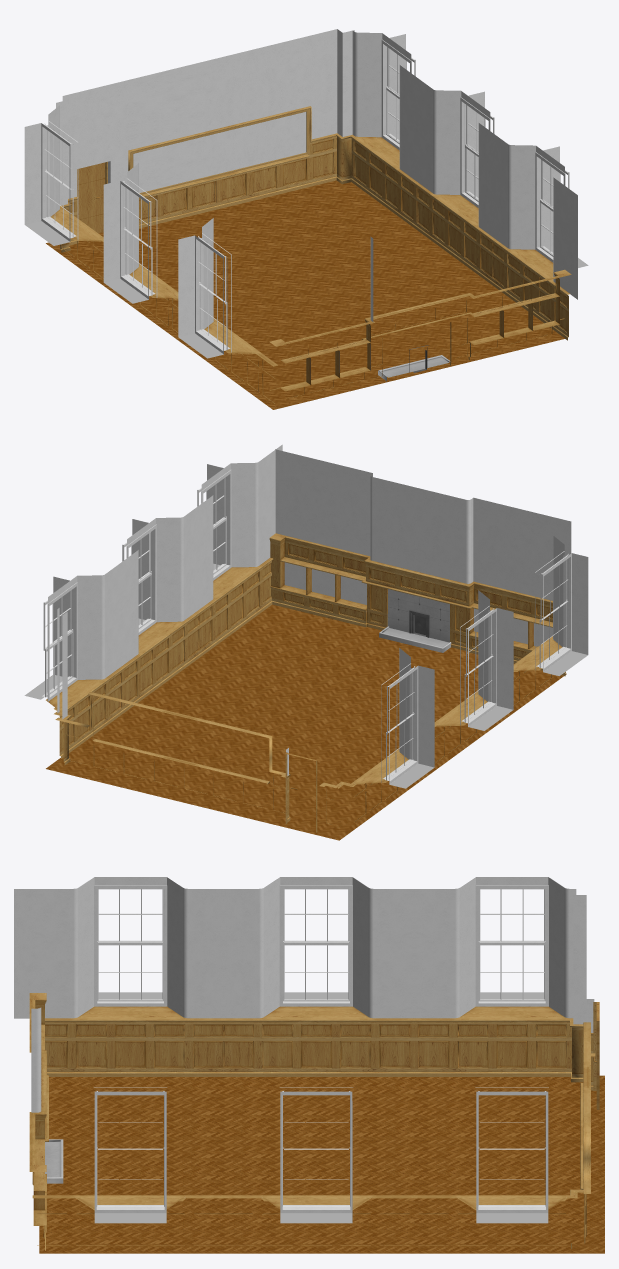
The model's file is final_room2.gltf.
3 views of the same model, one above another, from view 1: azimuth 30°, elevation 25°; view 2: azimuth 150°, elevation 25°; view 3: azimuth 270°, elevation 25° (orthographic). The views are drawn at different scales.
Parts seen in each view (by area): view 1: final_room; view 2: final_room; view 3: final_room.
Boxes of the visible parts, x1,y1,x2,y2 form: final_room: (24, 29, 588, 409); final_room: (24, 444, 588, 840); final_room: (14, 877, 604, 1253).
Size of the model in its own units: 10.75 by 4.06 by 11.62.
Materials: 4 (4 with a texture image).
